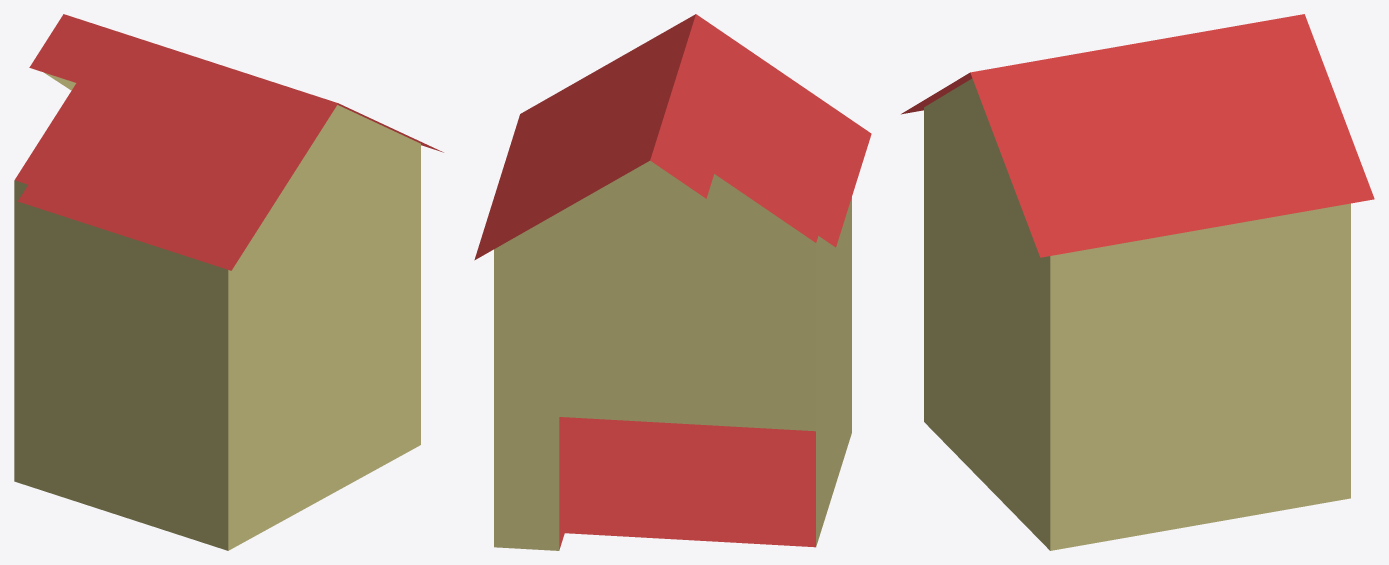
3 views of the same model, side by side, from view 1: azimuth 30°, elevation 25°; view 2: azimuth 150°, elevation 25°; view 3: azimuth 270°, elevation 25° (orthographic). The views are drawn at different scales.
Bounding box in the file's own units: 12.21 × 12.98 × 12.58.
